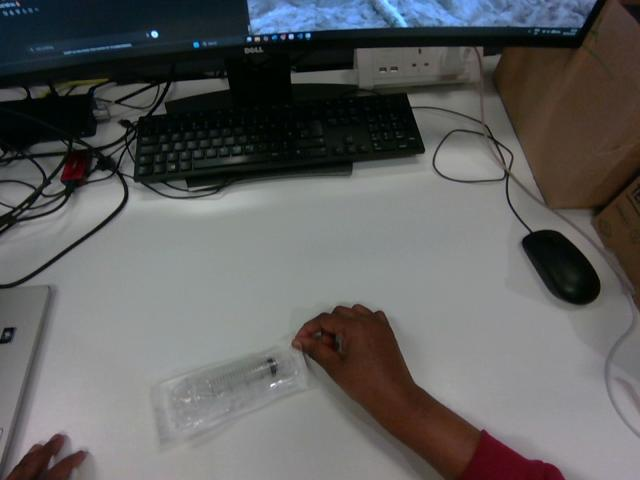syringe: (152, 346, 309, 442)
